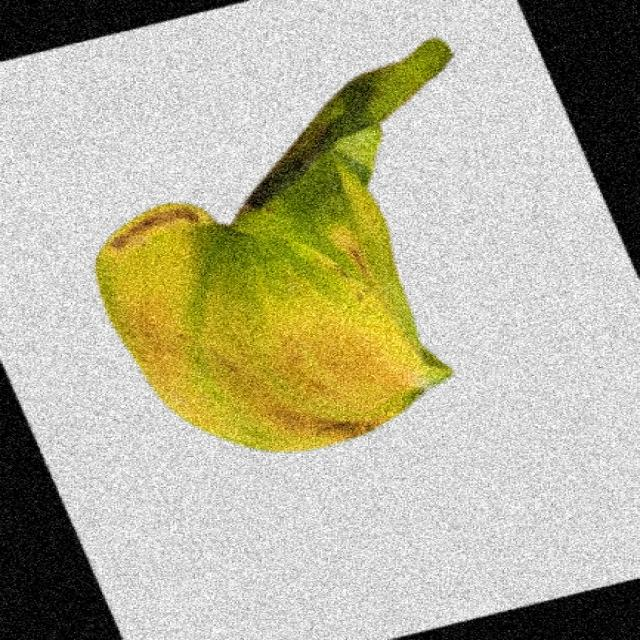daun berpenyakit kuning: (97, 39, 451, 451)
